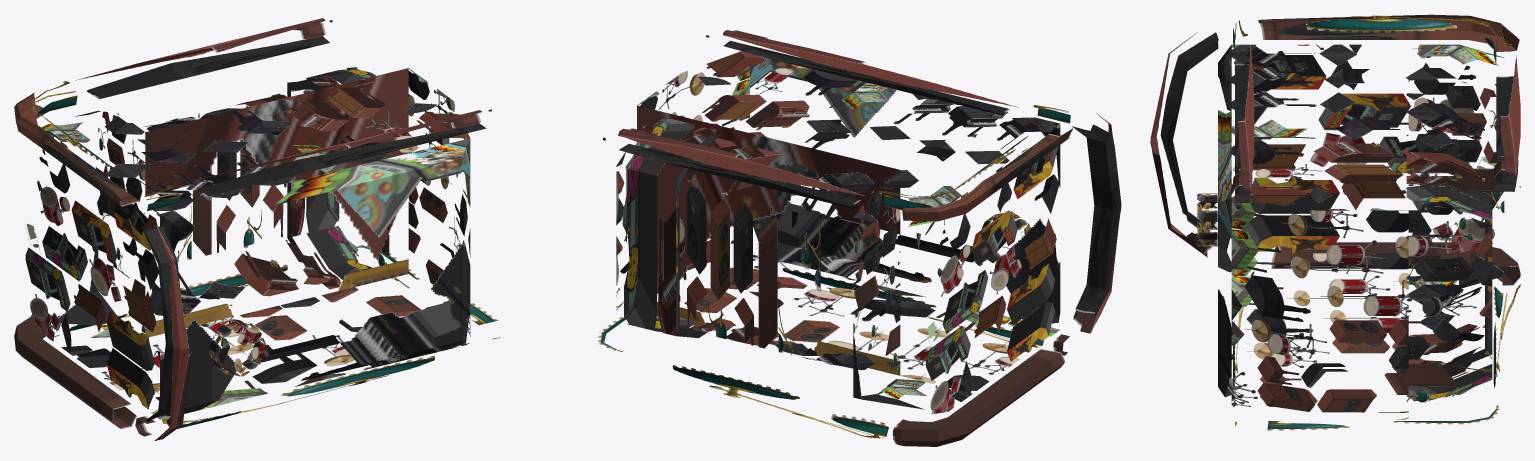
3 views of the same model, side by side, from view 1: azimuth 30°, elevation 25°; view 2: azimuth 150°, elevation 25°; view 3: azimuth 270°, elevation 25° (orthographic).
Size of the model in its own units: 0.69 by 0.4217 by 0.5672.
